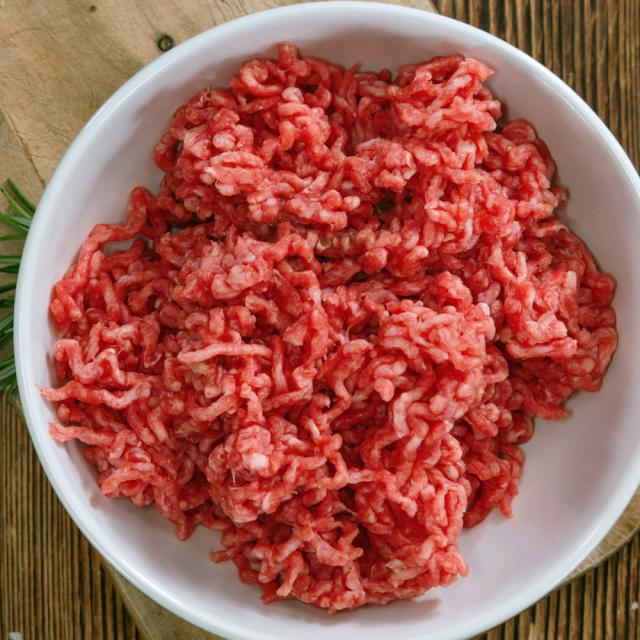beef: (208, 156, 494, 416)
